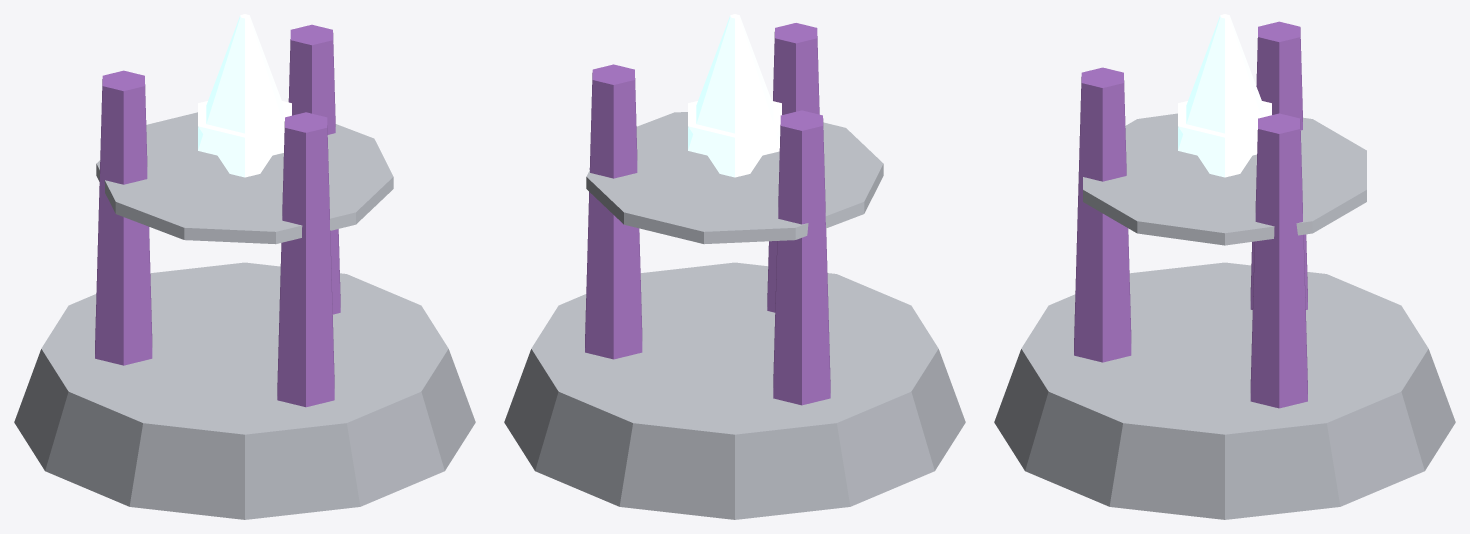
File: tower_mage_detailed.glb
The picture shows the model from 3 angles, left to right: view 1: azimuth 30°, elevation 25°; view 2: azimuth 150°, elevation 25°; view 3: azimuth 270°, elevation 25°; orthographic projection.
Parts seen in each view (by area): view 1: BaseStone, SpiralPillars, RunicDais, FocusCrystal; view 2: BaseStone, SpiralPillars, RunicDais, FocusCrystal; view 3: BaseStone, SpiralPillars, RunicDais, FocusCrystal.
Boxes of the visible parts, bbox=[...] form: BaseStone: bbox=[14, 262, 475, 519]; SpiralPillars: bbox=[95, 24, 340, 407]; RunicDais: bbox=[96, 112, 393, 244]; FocusCrystal: bbox=[198, 14, 291, 177]; BaseStone: bbox=[504, 262, 965, 519]; SpiralPillars: bbox=[585, 23, 830, 405]; RunicDais: bbox=[586, 112, 883, 244]; FocusCrystal: bbox=[688, 14, 781, 177]; BaseStone: bbox=[994, 262, 1455, 519]; SpiralPillars: bbox=[1074, 21, 1307, 408]; RunicDais: bbox=[1083, 113, 1366, 245]; FocusCrystal: bbox=[1178, 14, 1271, 177].
Size of the model in its own units: 3.4 by 3.3 by 3.4.
